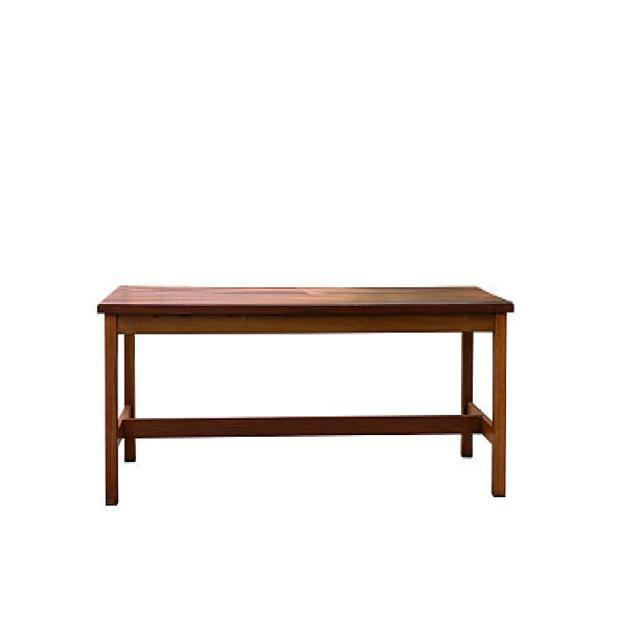table: (96, 282, 514, 506)
